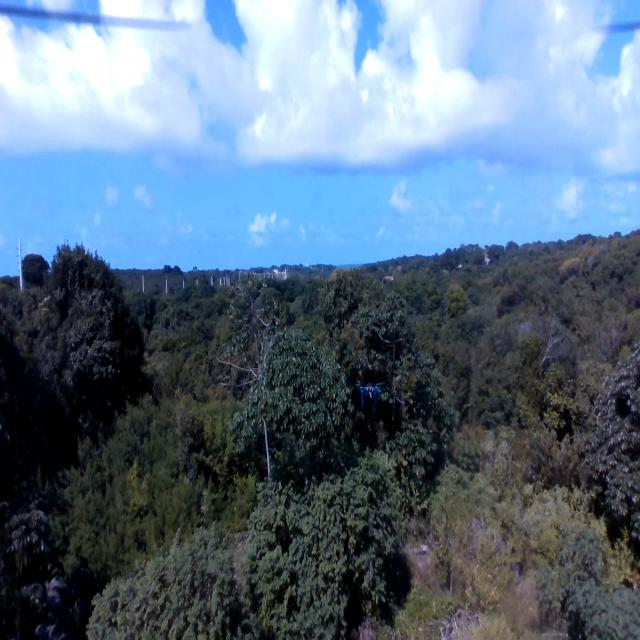-uav-: (347, 367, 390, 422)
